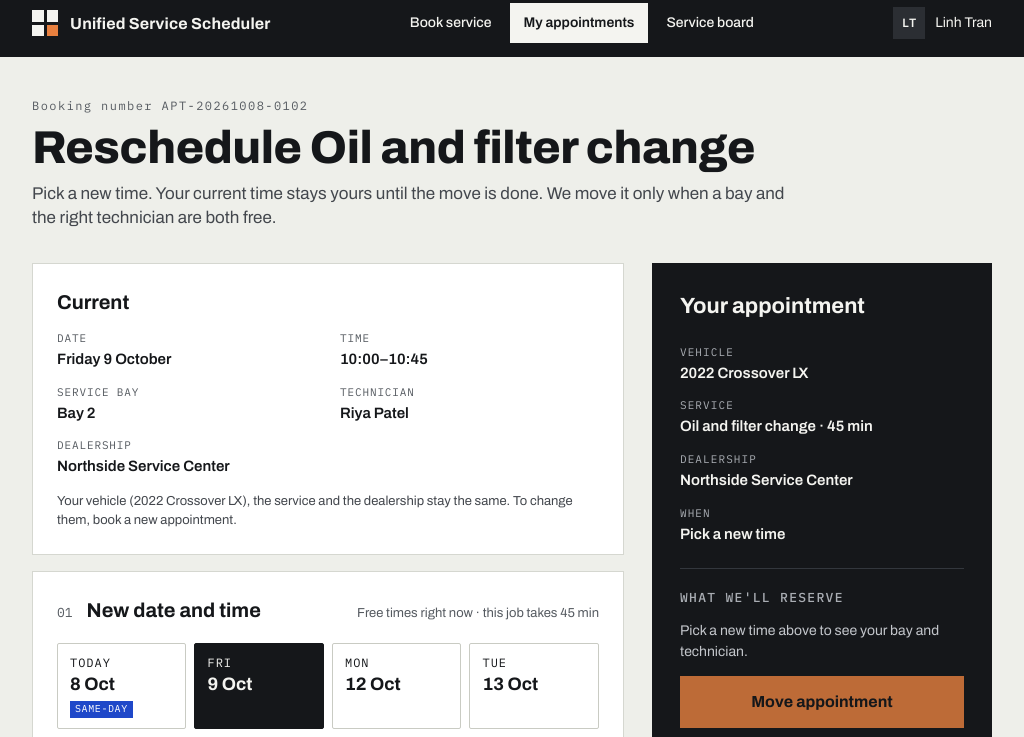
Scenario: W6-F5 reschedule findings › F5-4 parts-unavailable panel does not suggest another dealership
Click the button with aria-label "Today, Thu 8 Oct" at (122, 686), box [57, 643, 186, 729]
(page scrolled)
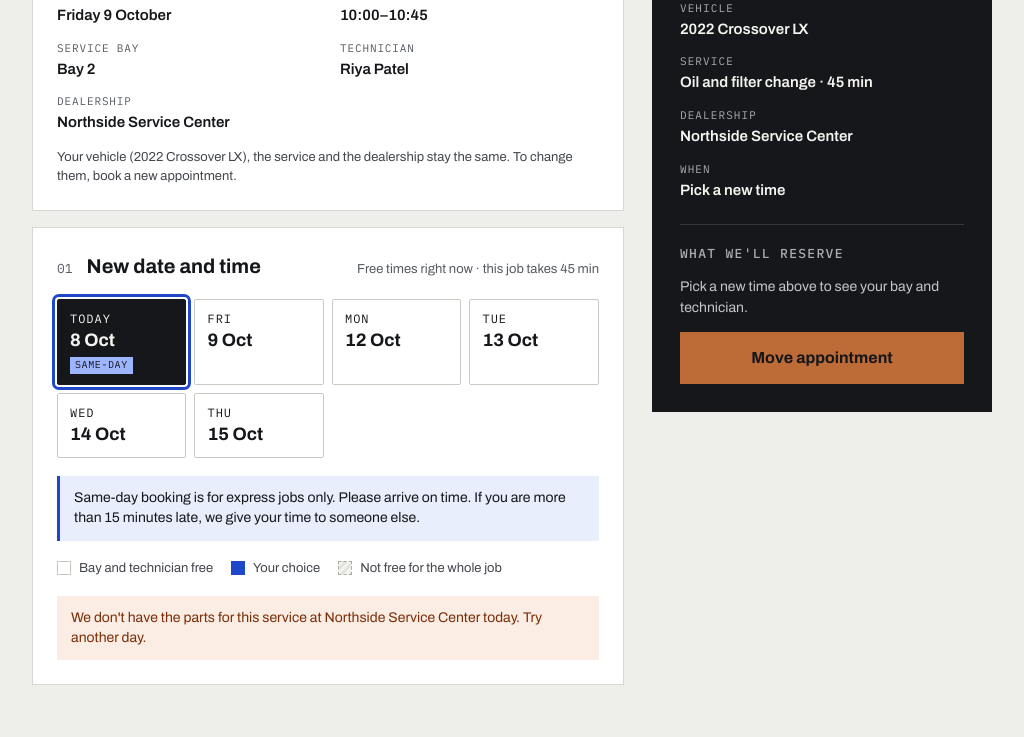
Check: the text "We don't have the parts for this service at" does not show "another dealership", box [57, 596, 599, 660]
Check: the text "We don't have the parts for this service at" shows "Try another day.", box [71, 610, 542, 645]
